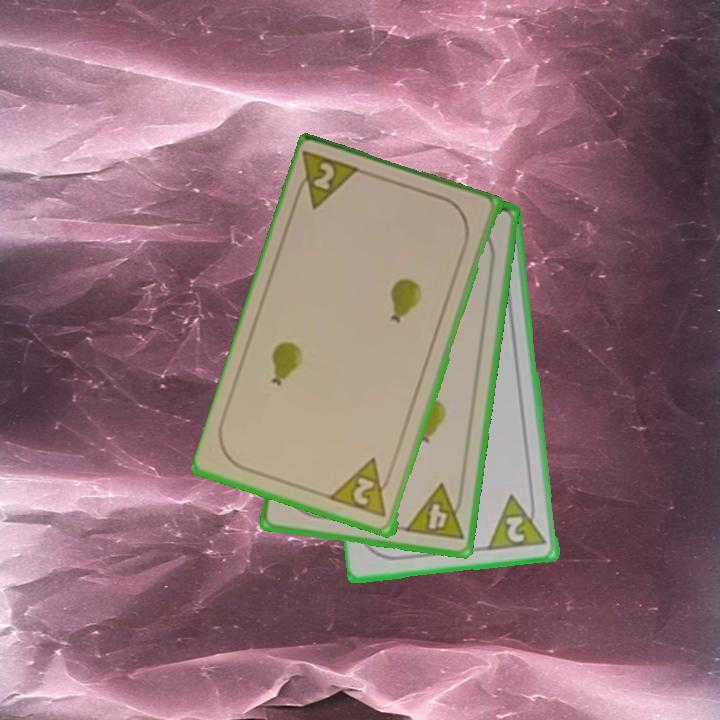2p: (290, 148, 366, 214), (328, 455, 395, 521), (485, 489, 550, 554)
4p: (401, 480, 467, 544)
